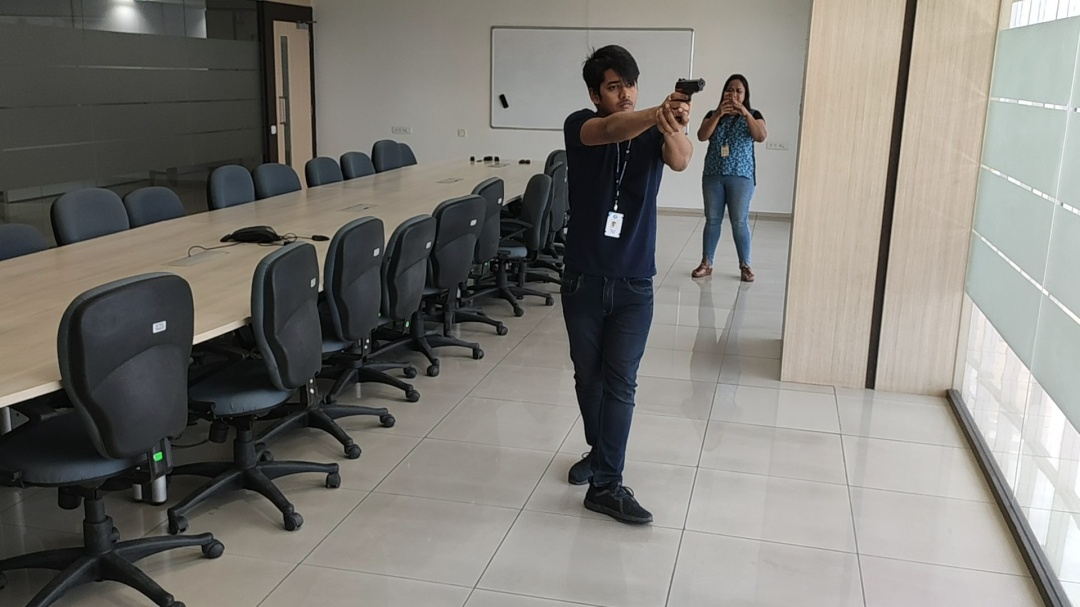gun: (667, 71, 707, 97)
